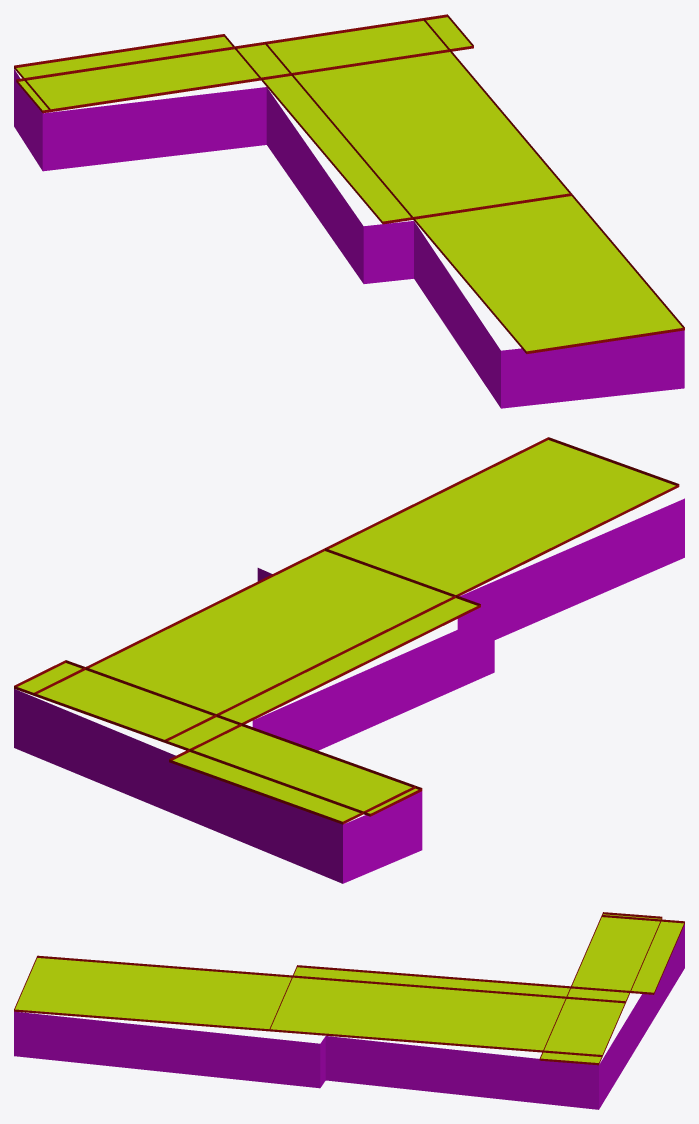
Rendered from ssv_18.glb.
The picture shows the model from 3 angles, top to bottom: view 1: azimuth 30°, elevation 25°; view 2: azimuth 150°, elevation 25°; view 3: azimuth 270°, elevation 25°; orthographic projection. The views are drawn at different scales.
Parts seen in each view (by area): view 1: ssv_18; view 2: ssv_18; view 3: ssv_18.
Boxes of the visible parts, <box> form: ssv_18: <box>14,14,684,408</box>; ssv_18: <box>14,437,684,883</box>; ssv_18: <box>14,912,684,1109</box>.
Size of the model in its own units: 51.6 by 7.45 by 96.89.
